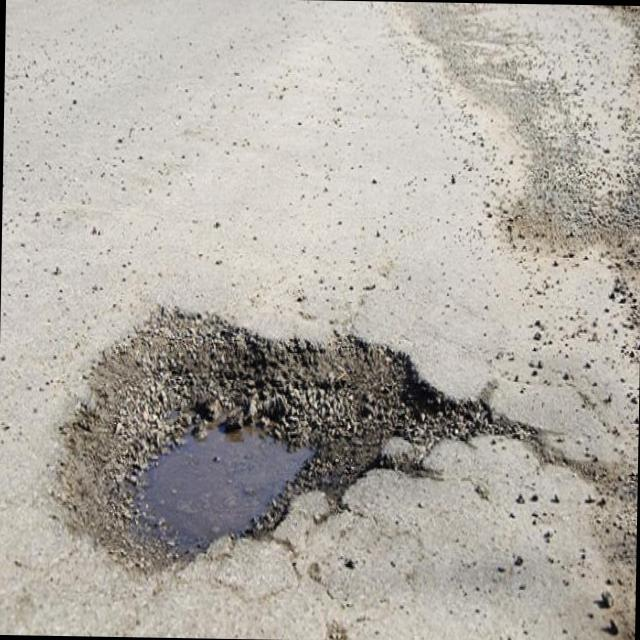Pothole: (58, 307, 494, 567)
